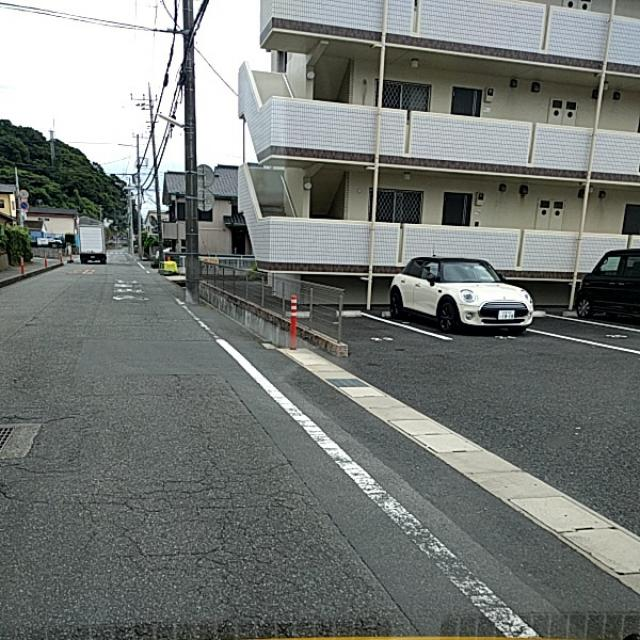pothole: (77, 406, 356, 623)
